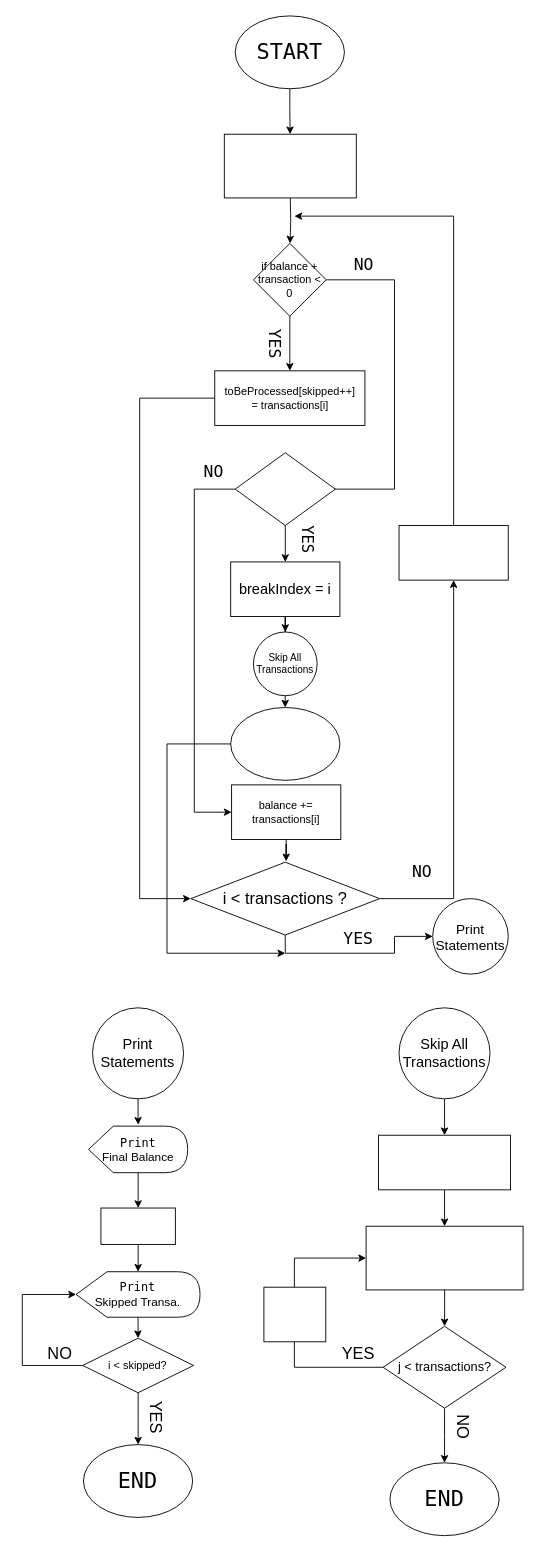
The diagram is 540 pixels wide and 1552 high, and some of its shapes have lost their labels. The centre of each missing label's shape, as x and y in pixels:
BREAK: the point at 285,743
i++: the point at 453,552
if balance + transactions[i] == 0: the point at 284,489
int balance; int transactions[]; int toBeProcessed[]; int skipped = 0;: the point at 289,165
int i = 0;: the point at 137,1225
j = breakIndex + 1;: the point at 444,1162
j++: the point at 294,1314
toBeProcessed[skipped++] = transactions[ j ];: the point at 444,1257
